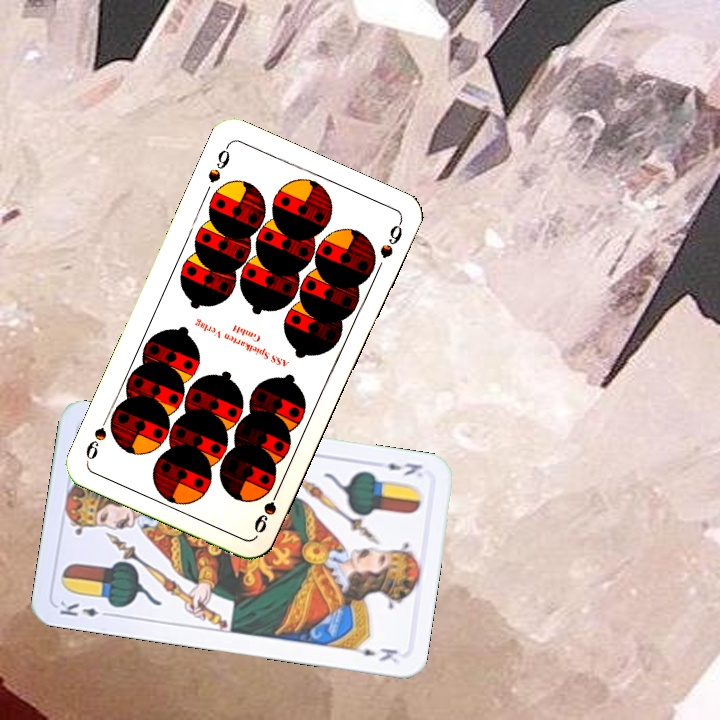EK: (55, 597, 114, 620), (383, 458, 425, 479)
S9: (250, 481, 284, 536), (203, 140, 233, 186)
